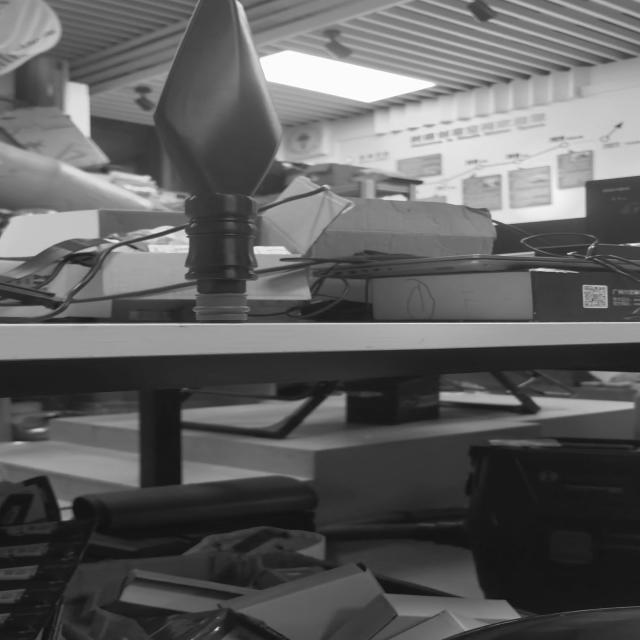base: (195, 292, 252, 324)
